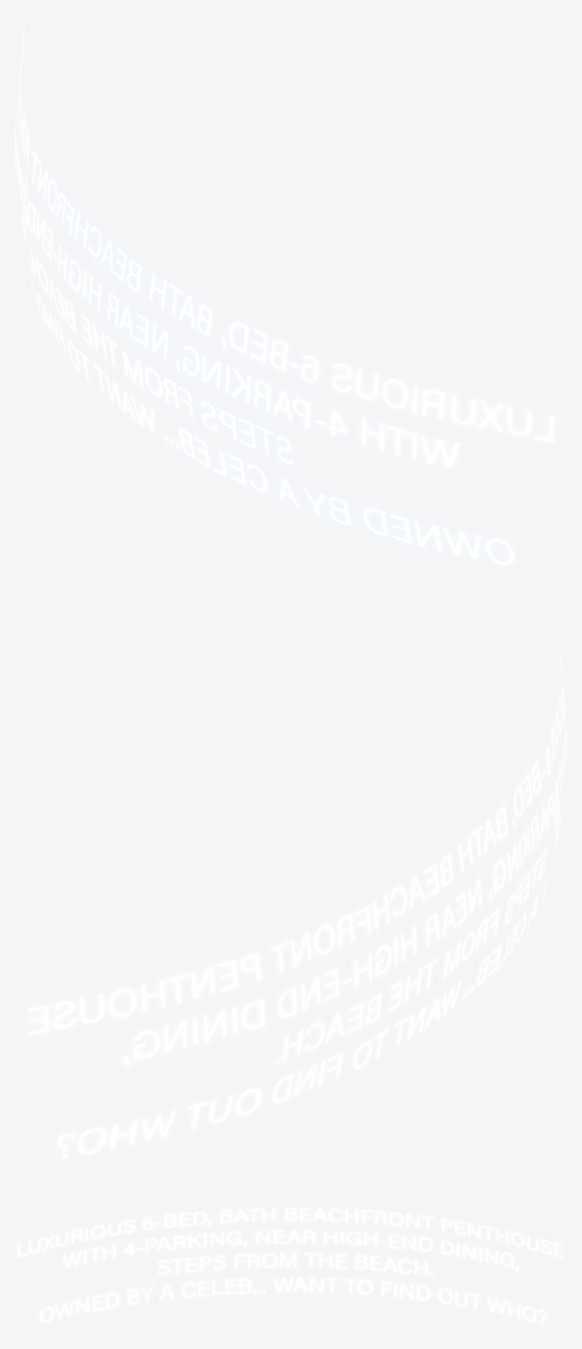
File: Description.glb
3 views of the same model, one above another, from view 1: azimuth 30°, elevation 25°; view 2: azimuth 150°, elevation 25°; view 3: azimuth 270°, elevation 25° (orthographic). The views are drawn at different scales.
Visible parts, largest first — view 1: LUXURIOUS 6-BED, BATH BEACHFRONT PENTHOUSE WITH 4-PARKING, N; view 2: LUXURIOUS 6-BED, BATH BEACHFRONT PENTHOUSE WITH 4-PARKING, N; view 3: LUXURIOUS 6-BED, BATH BEACHFRONT PENTHOUSE WITH 4-PARKING, N.
Boxes of the visible parts, bbox=[...] form: LUXURIOUS 6-BED, BATH BEACHFRONT PENTHOUSE WITH 4-PARKING, N: bbox=[14, 27, 557, 567]; LUXURIOUS 6-BED, BATH BEACHFRONT PENTHOUSE WITH 4-PARKING, N: bbox=[27, 626, 567, 1160]; LUXURIOUS 6-BED, BATH BEACHFRONT PENTHOUSE WITH 4-PARKING, N: bbox=[16, 1206, 564, 1325].
Size of the model in its own units: 1.04 by 1.03 by 5.56.
Materials: 1 (1 with a texture image).
